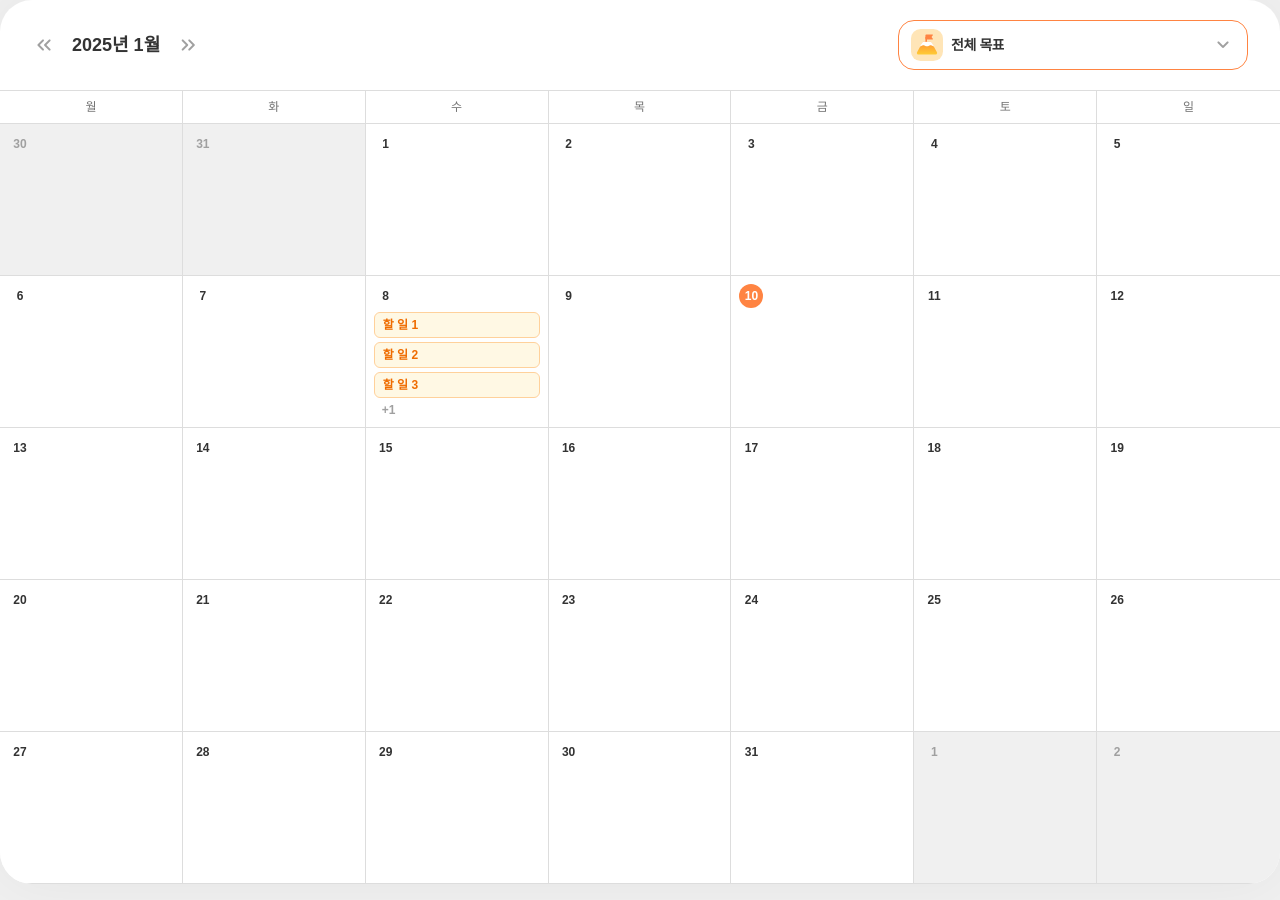
Test: CalendarView › 목표를 고르면 goalId로 재조회하고 버튼에 제목을 표시하며, 전체 목표를 고르면 goalId를 보내지 않는다
Step 1. Click the button "전체 목표" → (927,45), box [898,20,1248,70]
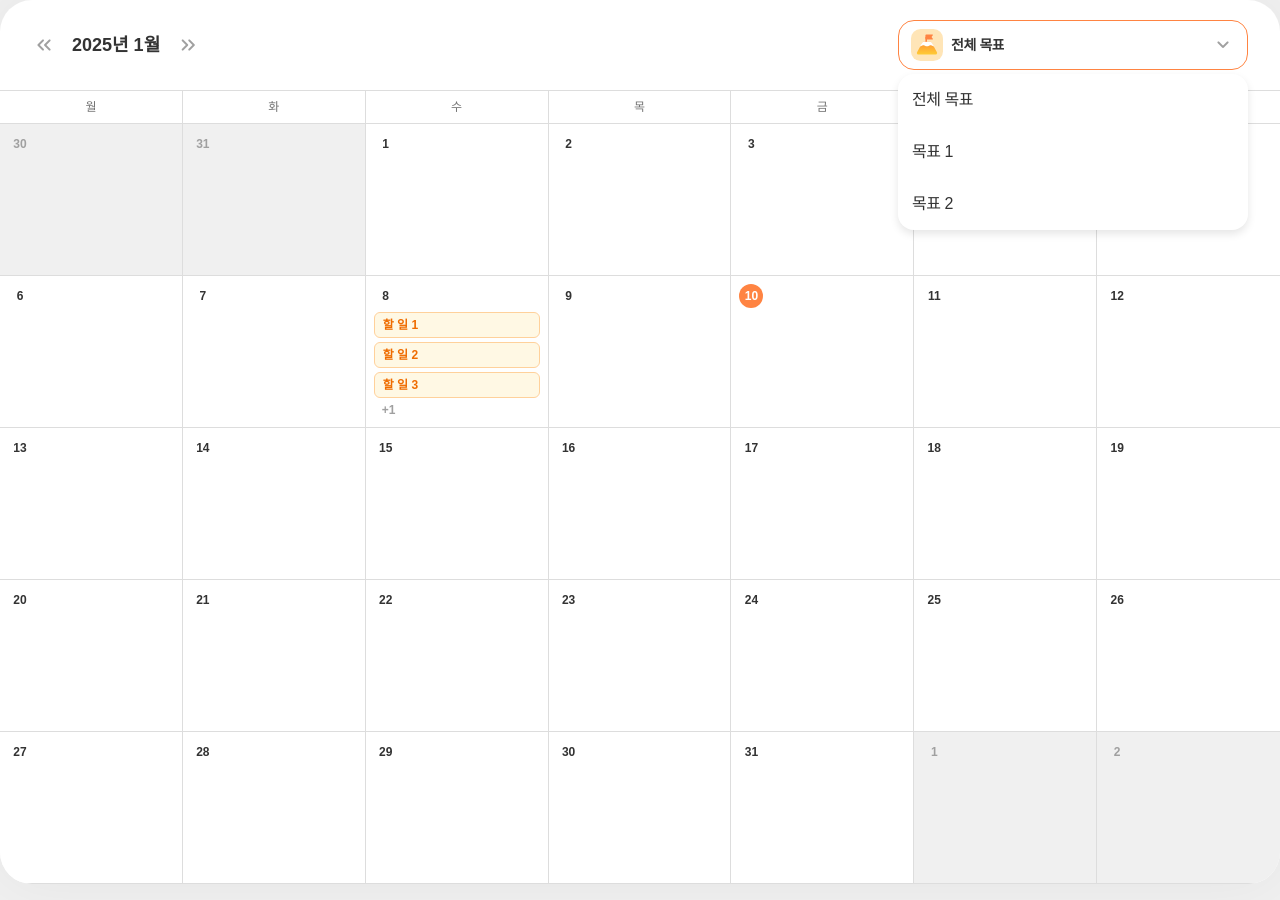
Step 2. Click the menu item "목표 2" → (932,204), box [912,195,953,212]
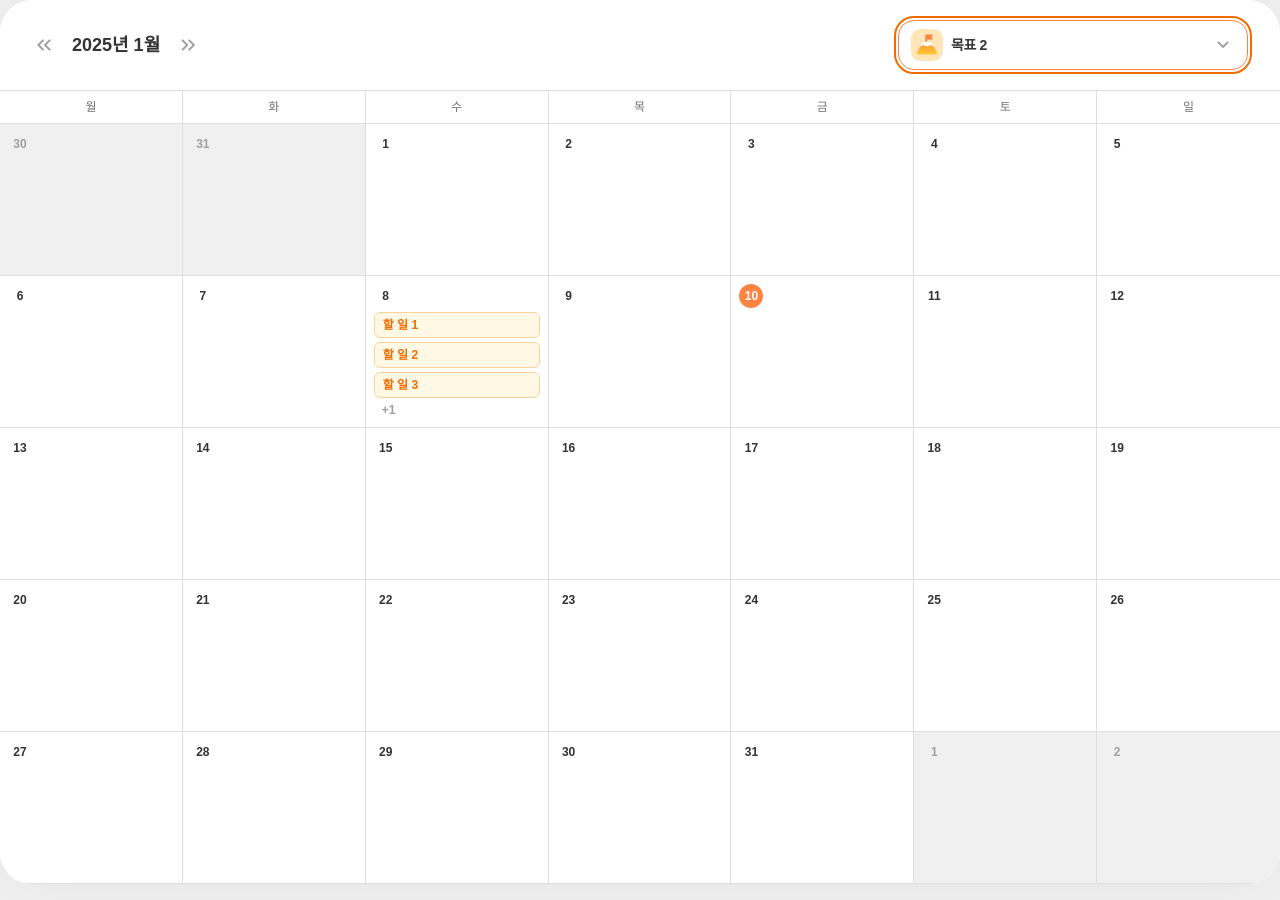
Step 3. Click the button "목표 2" → (927,45), box [898,20,1248,70]
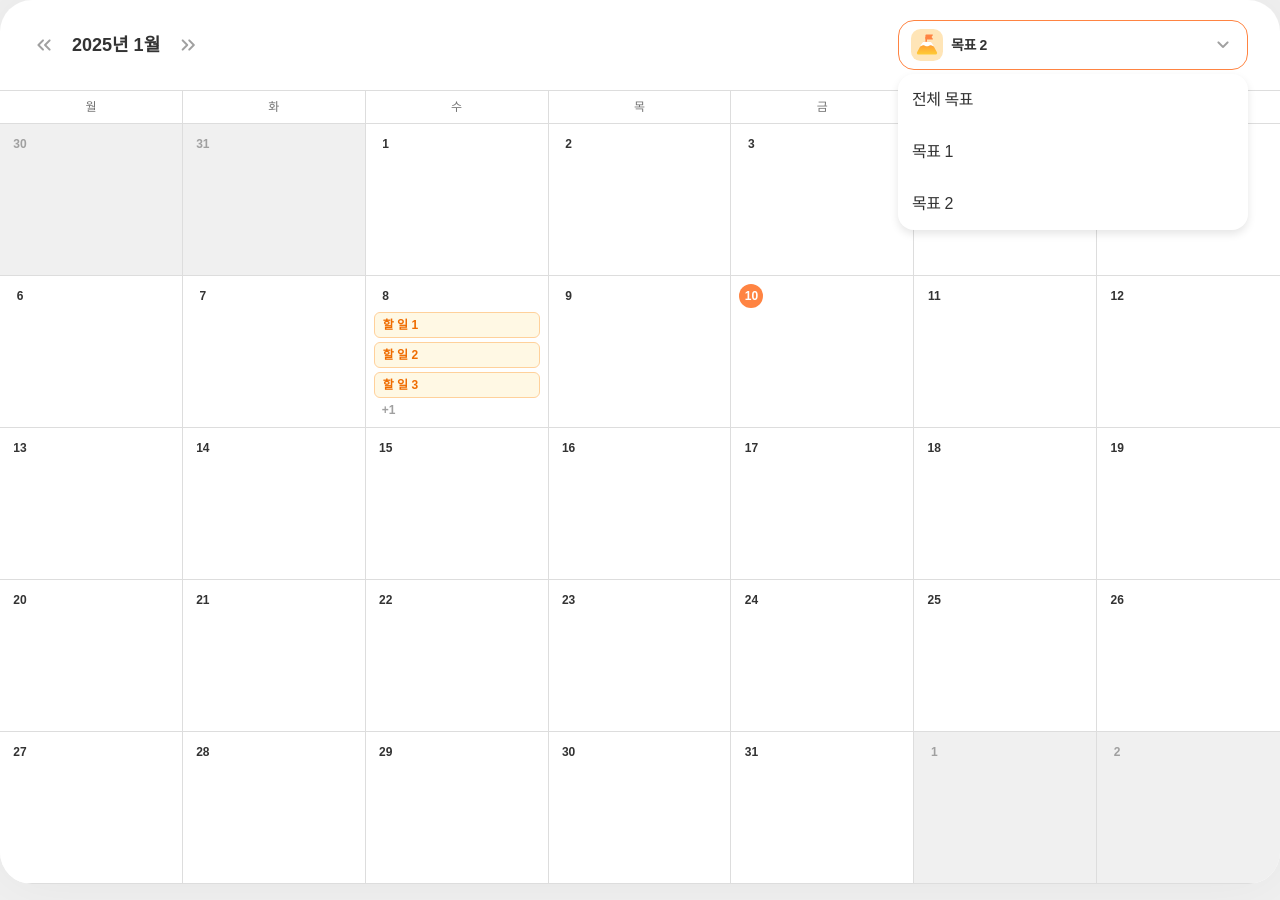
Step 4. Click the menu item "전체 목표" → (942,100), box [912,91,973,108]
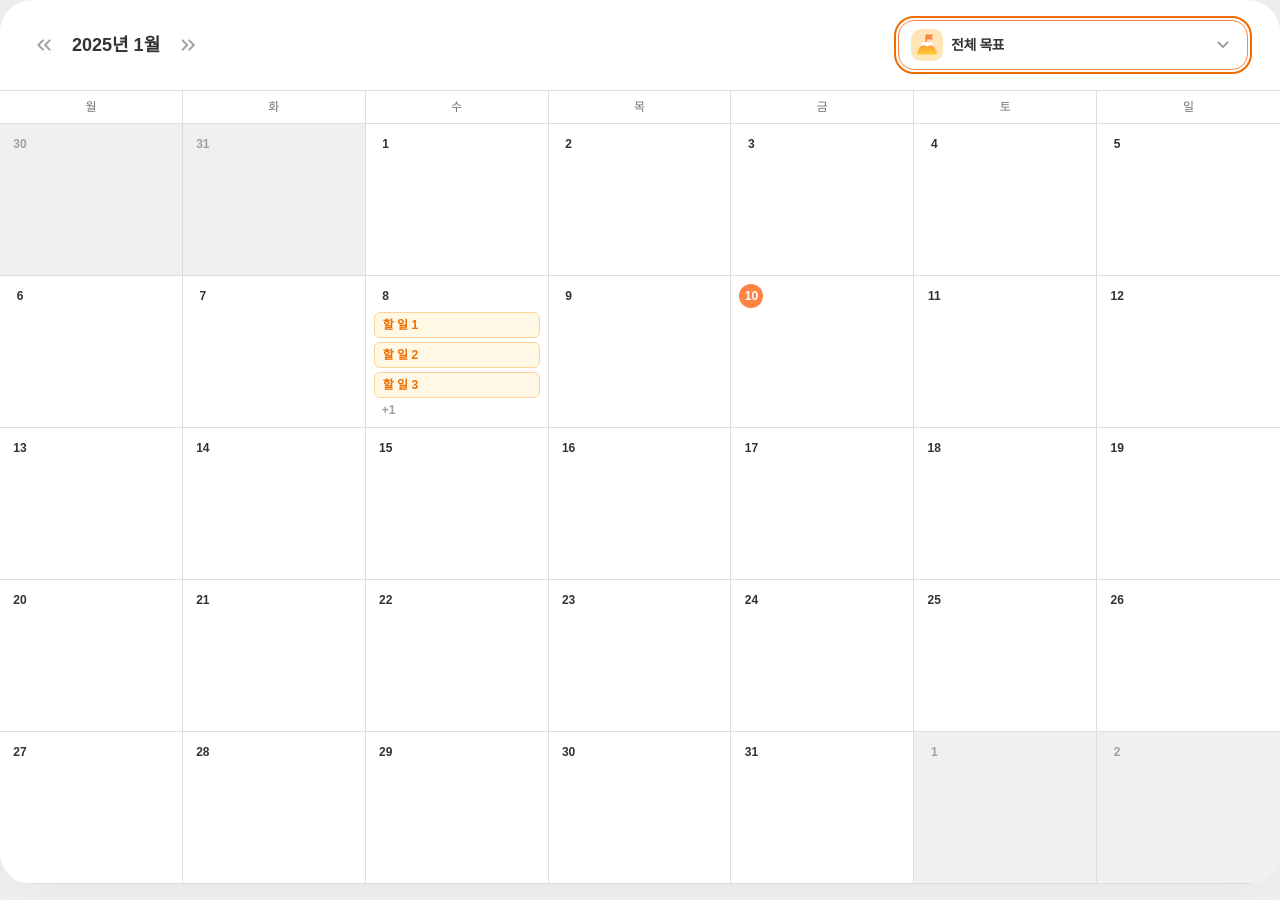
expect the button "전체 목표" is shown: met, box [898,20,1248,70]
